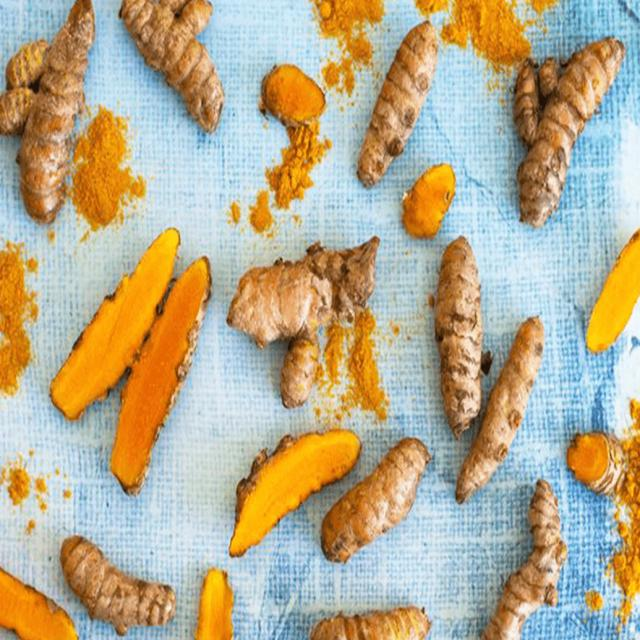turmeric: (42, 209, 214, 501), (215, 227, 385, 397), (210, 406, 359, 568), (1, 0, 107, 223), (505, 26, 624, 222), (50, 521, 214, 640), (114, 2, 234, 145), (327, 426, 432, 574), (354, 12, 442, 186), (465, 310, 541, 508), (491, 464, 563, 640), (433, 233, 483, 406), (588, 222, 640, 368), (253, 51, 329, 142), (313, 586, 439, 640), (185, 548, 248, 640), (3, 556, 69, 640), (562, 422, 626, 499), (399, 167, 456, 236)
